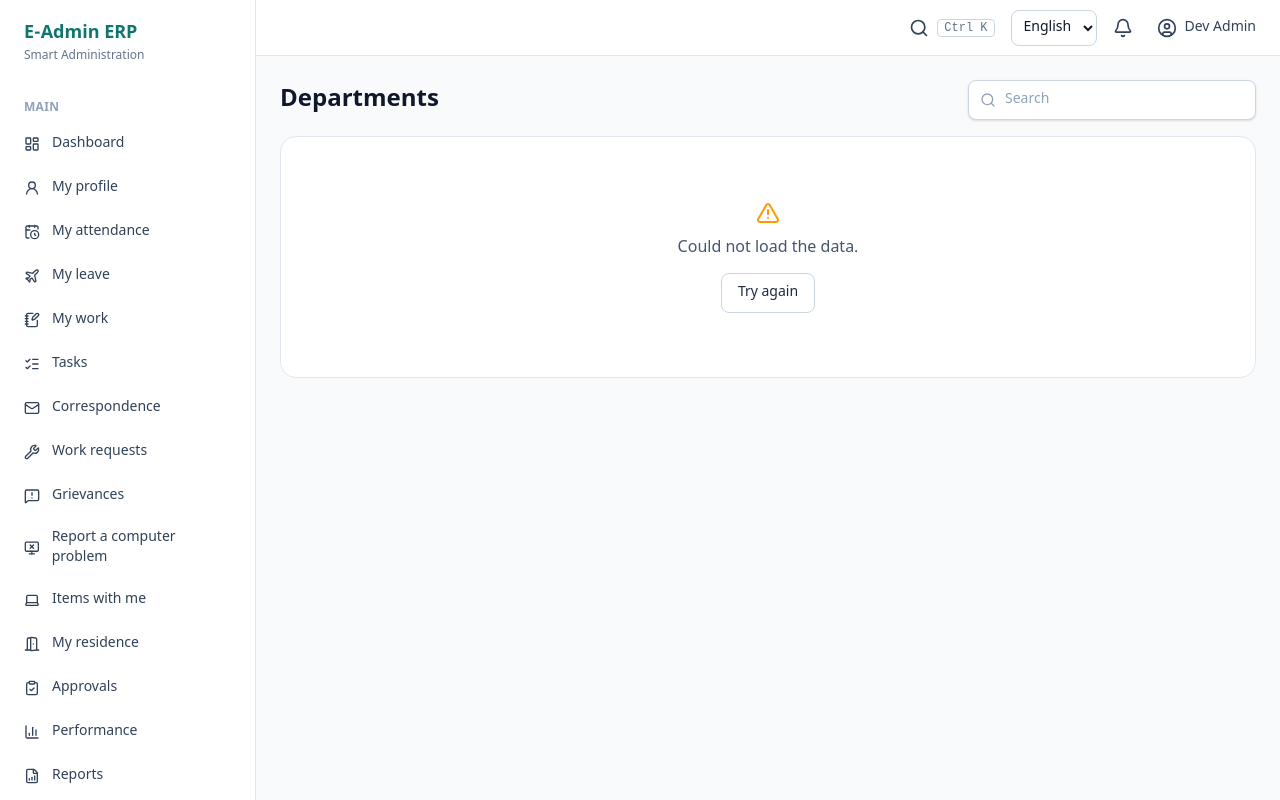
it: organization structure › shows a retry button when loading fails
Click the button "Try again": (768, 293) [721,273,815,313]
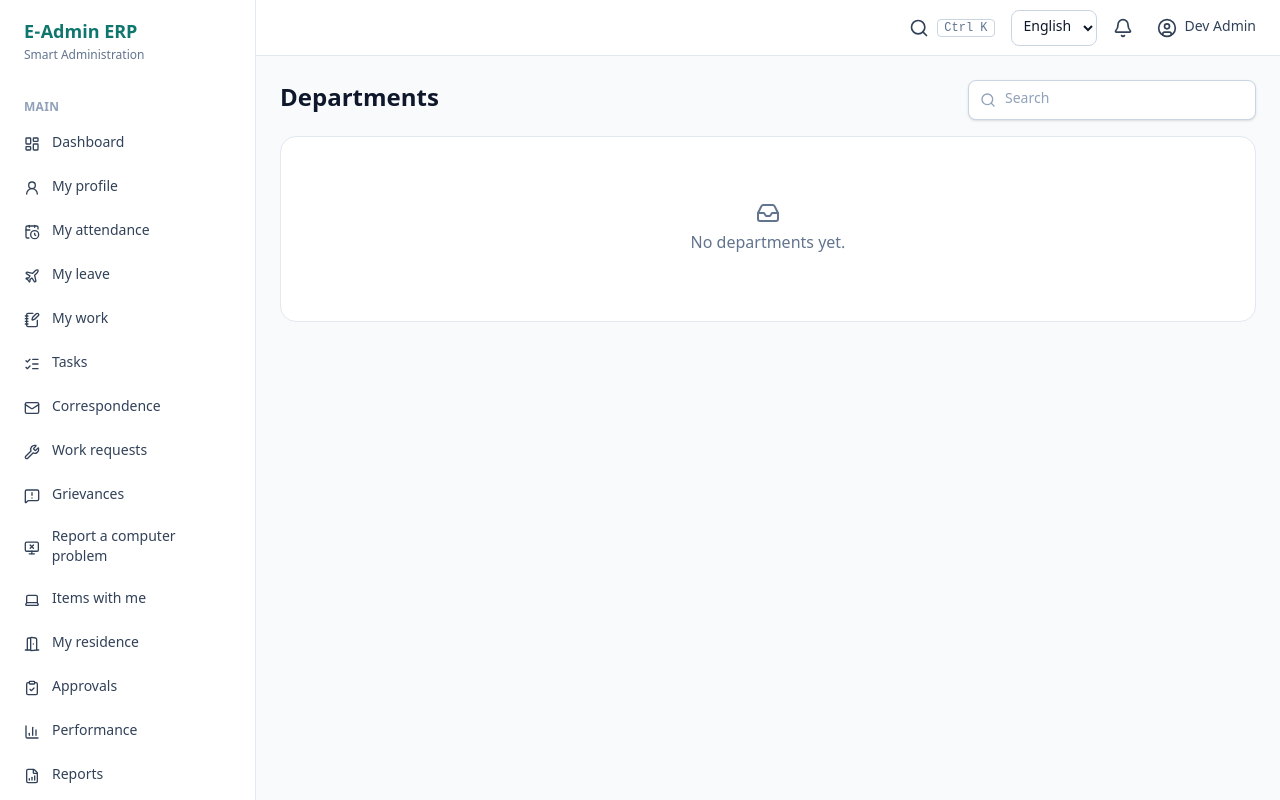
Expected: the text "No departments yet." is shown, [691,233,845,257]
